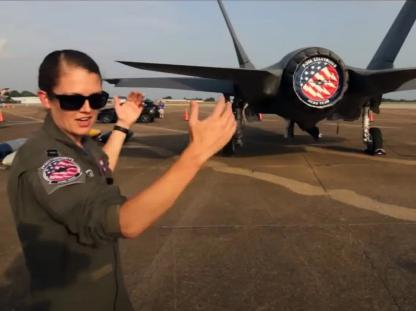F22: (101, 0, 415, 153)
